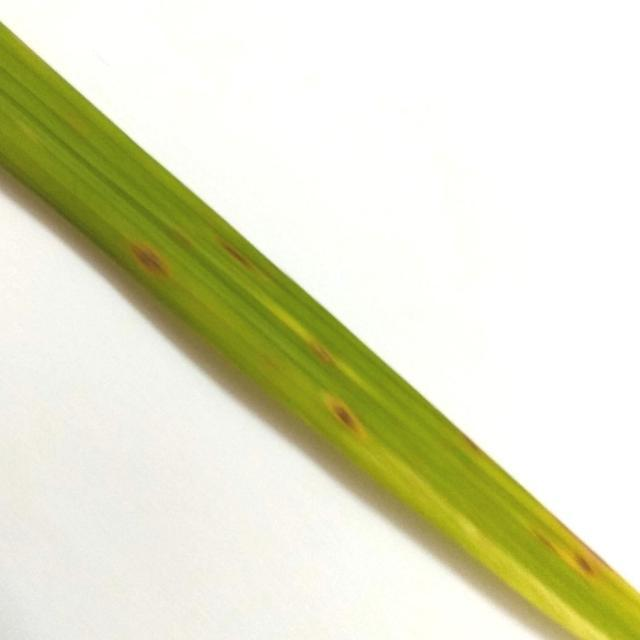Rice_Blast: (320, 381, 368, 442), (124, 232, 174, 286), (212, 226, 258, 276), (300, 330, 338, 370)
